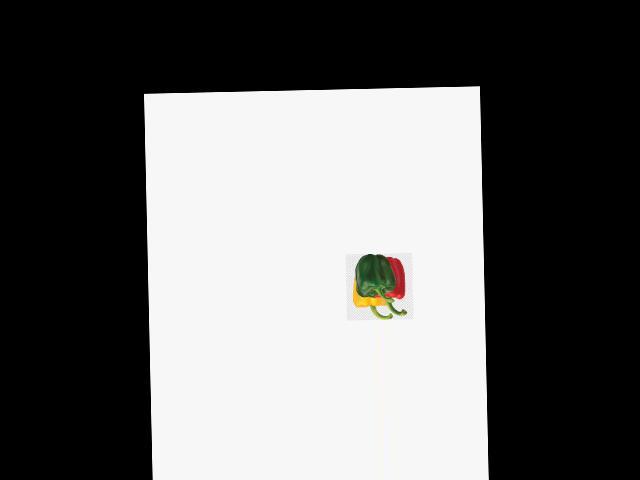bell_pepper: (374, 254, 413, 317)
